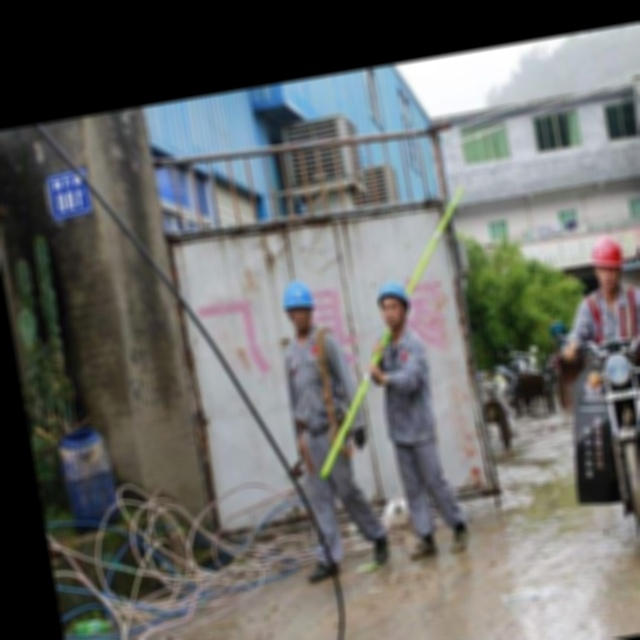Sin_Chaleco: (277, 326, 353, 434), (373, 326, 439, 443)
